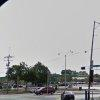Car: (30, 82, 58, 97)
